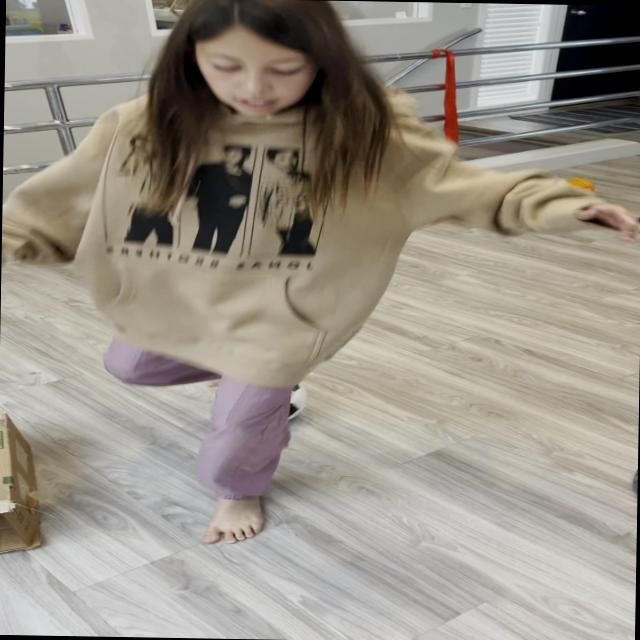Soccer Ball: (210, 372, 309, 426)
